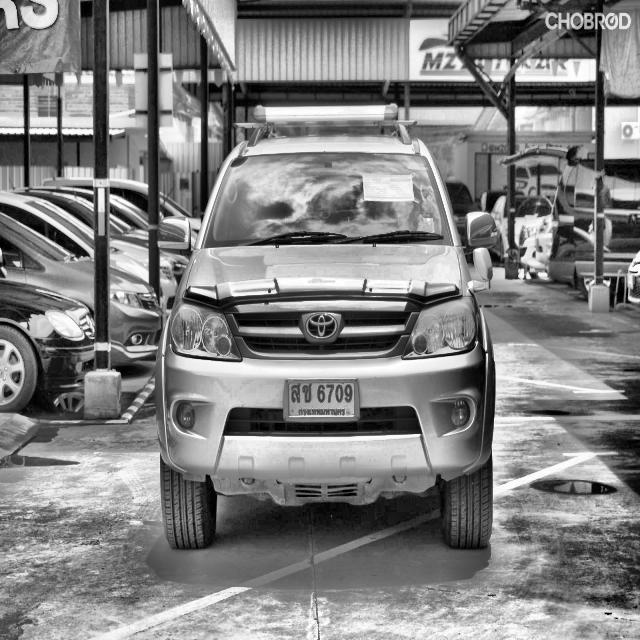license-plate: (284, 380, 361, 424)
